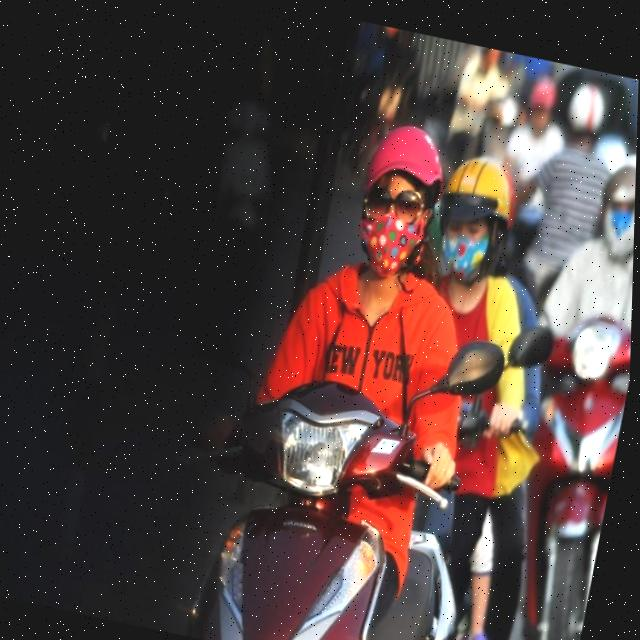motorcycle: (133, 333, 509, 640), (469, 283, 632, 640)
